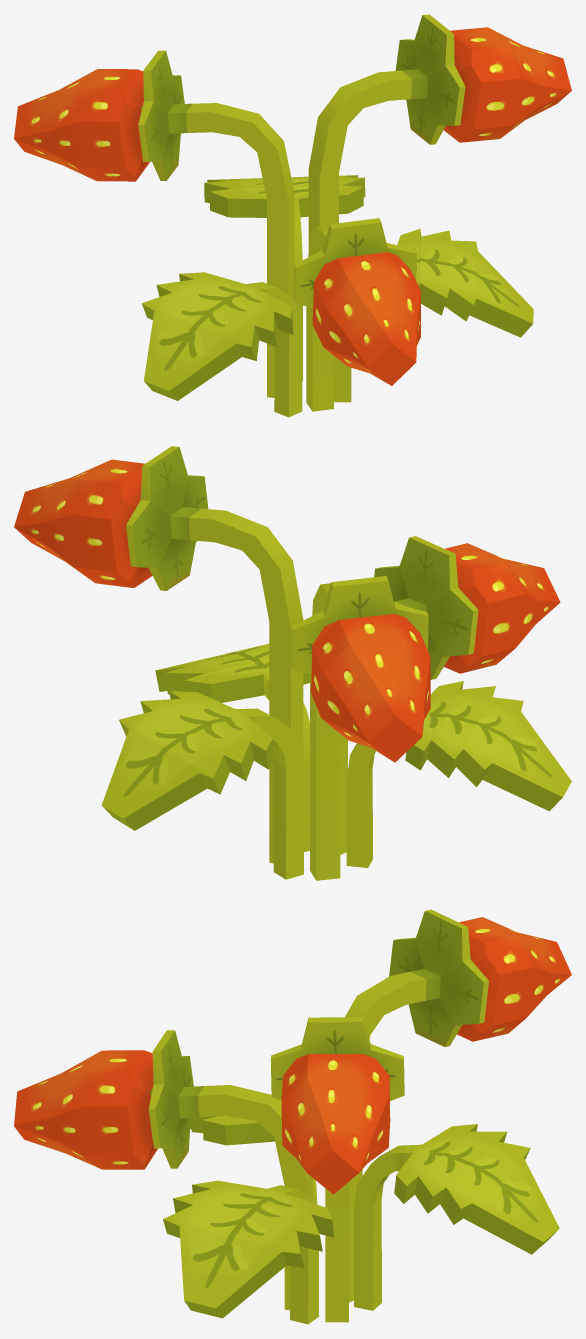
Rendered from frag1.glb.
3 views of the same model, one above another, from view 1: azimuth 30°, elevation 25°; view 2: azimuth 150°, elevation 25°; view 3: azimuth 270°, elevation 25° (orthographic). The views are drawn at different scales.
Parts seen in each view (by area): view 1: pasted__polySurface65; view 2: pasted__polySurface65; view 3: pasted__polySurface65.
Boxes of the visible parts, left/top/right/bottom form: pasted__polySurface65: left=14, top=14, right=571, bottom=417; pasted__polySurface65: left=14, top=446, right=571, bottom=880; pasted__polySurface65: left=14, top=909, right=571, bottom=1324.
Size of the model in its own units: 1.16 by 0.823 by 1.16.
2 materials, 2 textured.
